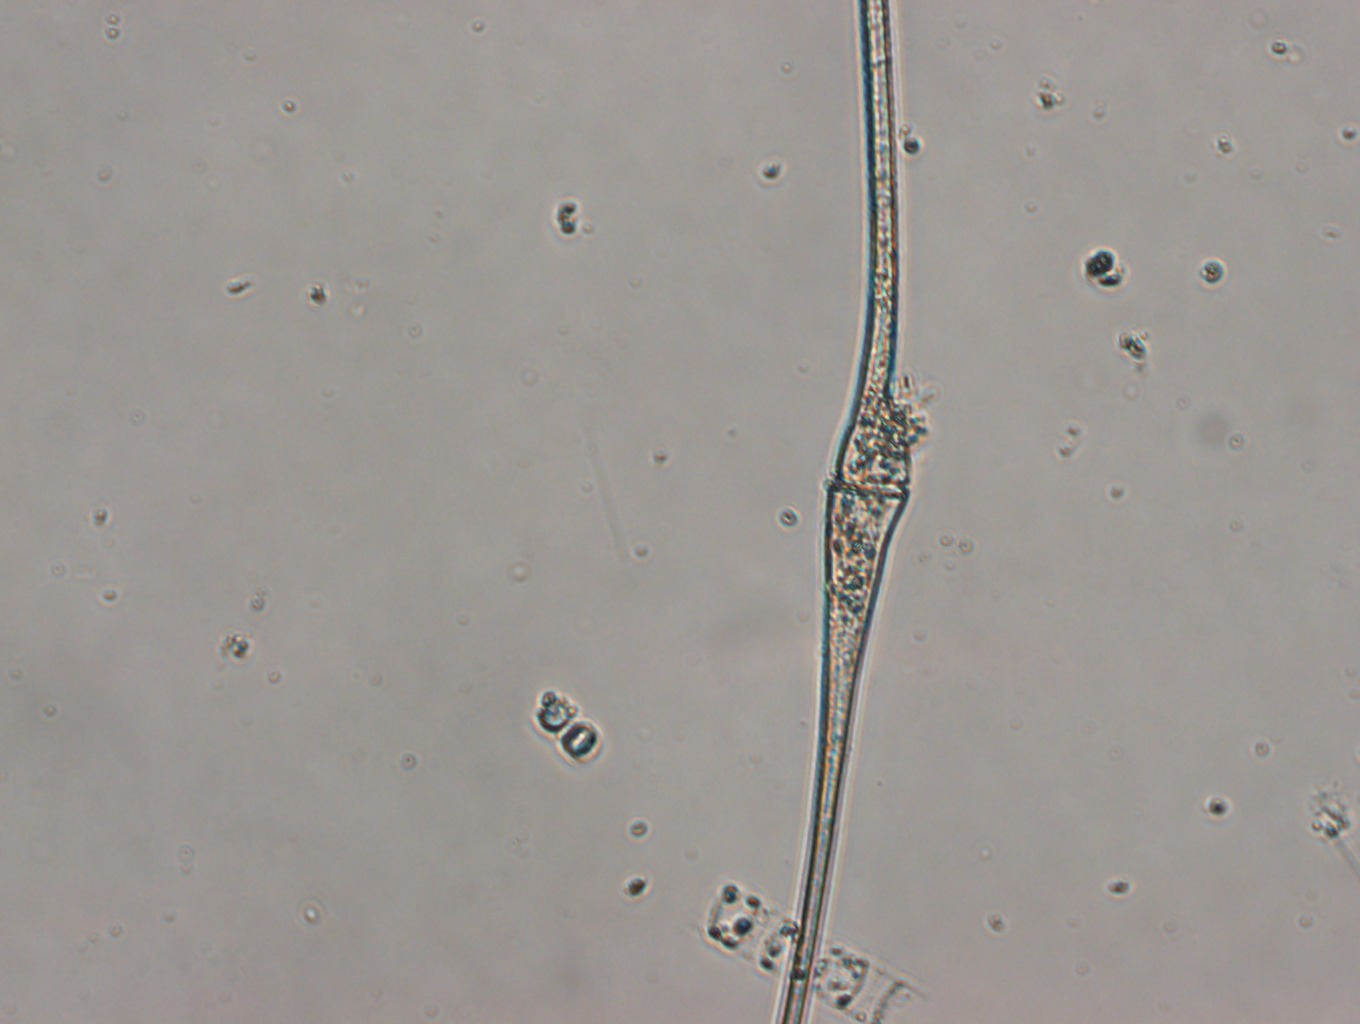ceratium fusus: (774, 1, 919, 1024)
skeletonema: (704, 883, 924, 1024)
